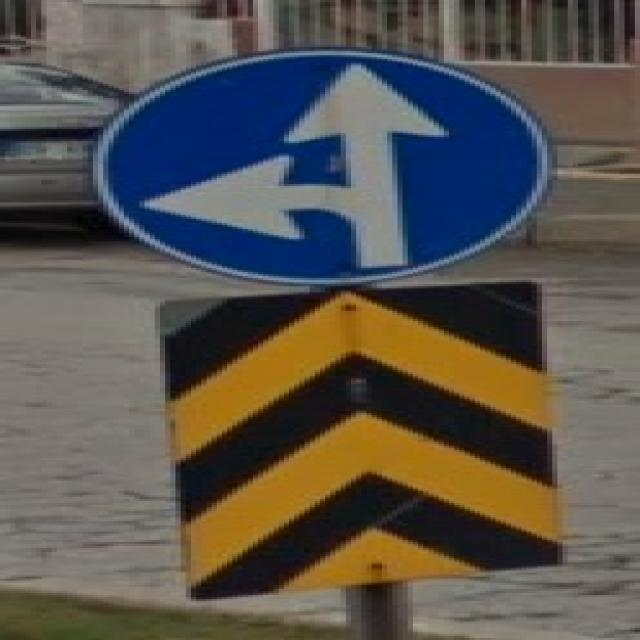Straight or Left: (91, 50, 556, 287)
